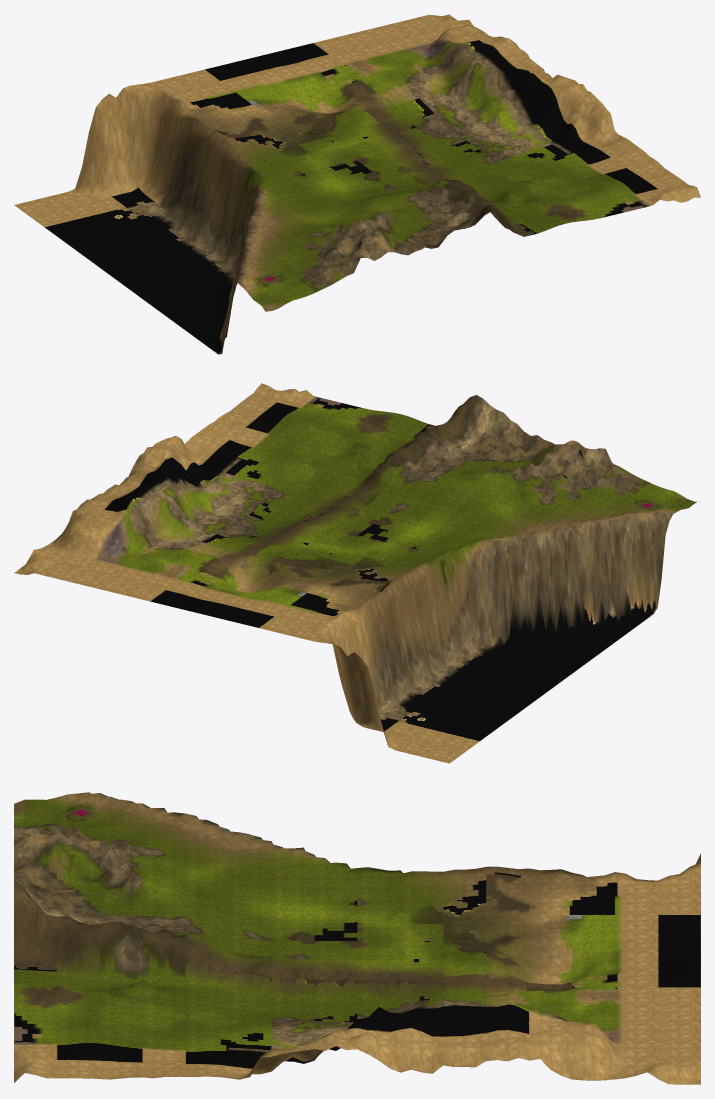
The model's file is terrain.glb.
3 renders of one model, top to bottom at view 1: azimuth 30°, elevation 25°; view 2: azimuth 150°, elevation 25°; view 3: azimuth 270°, elevation 25°, orthographic. The views are drawn at different scales.
Parts seen in each view (by area): view 1: terrain_5_2; view 2: terrain_5_2; view 3: terrain_5_2.
Part boxes in pixels (bbox=[...]): terrain_5_2: bbox=[14, 14, 700, 354]; terrain_5_2: bbox=[14, 383, 699, 763]; terrain_5_2: bbox=[14, 792, 700, 1084].
Bounding box in the file's own units: 512 × 146 × 512.
1 material, 1 textured.
